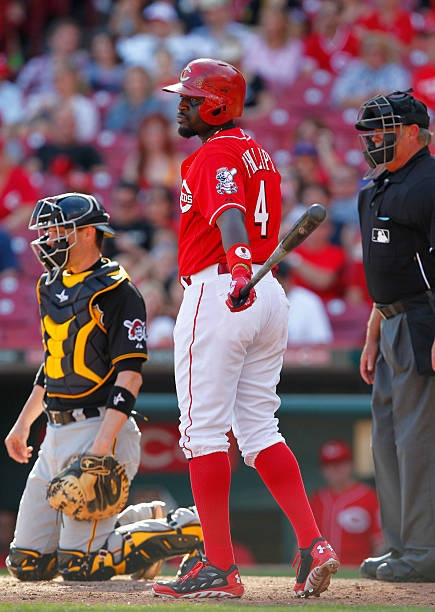bita: (233, 196, 329, 300)
